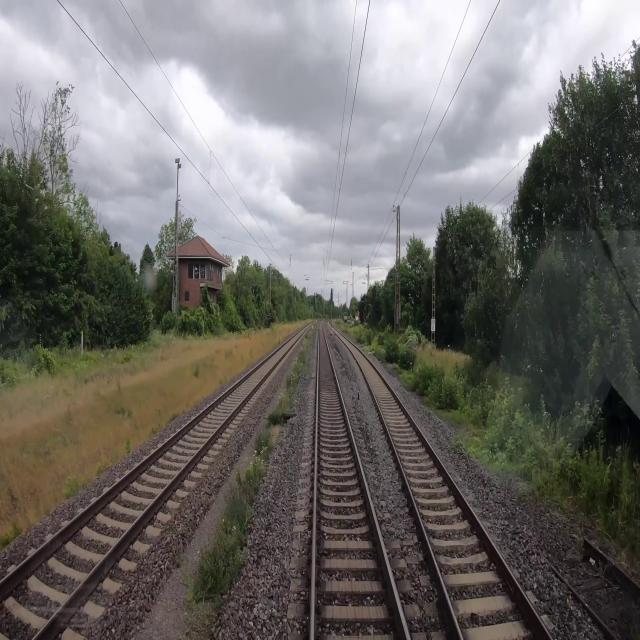Plant: (185, 335, 310, 609), (552, 536, 639, 639), (452, 430, 551, 503)
